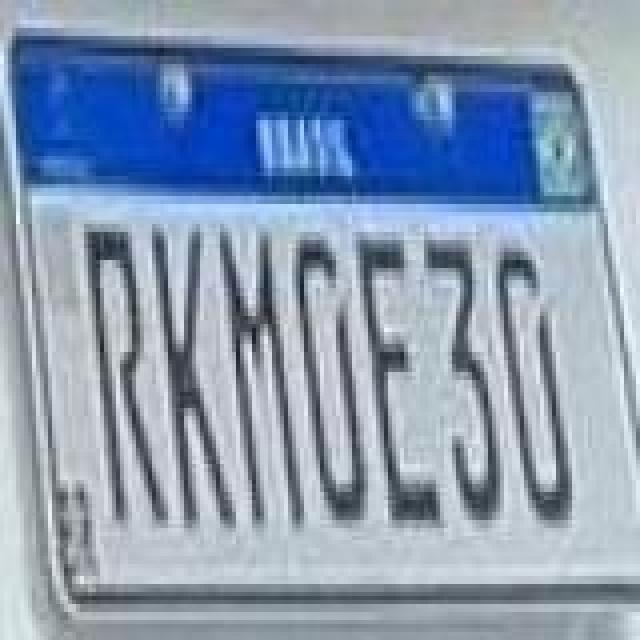3: (426, 240, 502, 528)
D: (290, 232, 366, 520), (494, 252, 570, 532)
E: (350, 232, 442, 528)
K: (146, 226, 238, 534)
M: (218, 226, 310, 534)
R: (82, 222, 174, 530)
